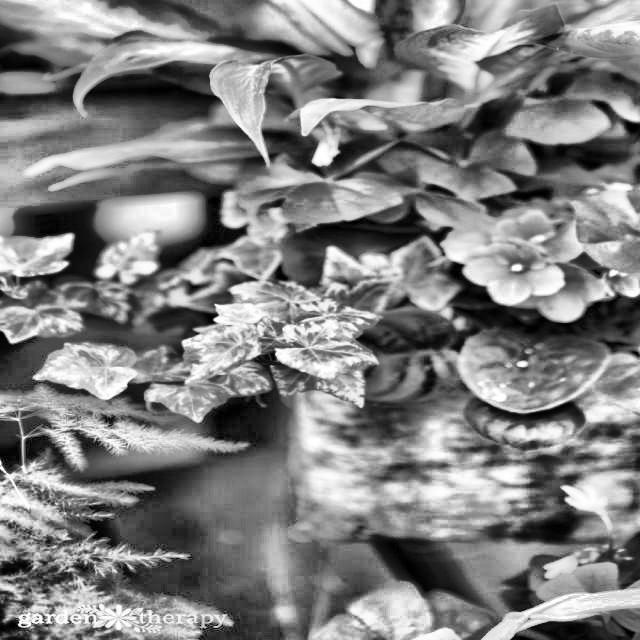plants: (96, 20, 640, 236), (14, 237, 401, 442)
